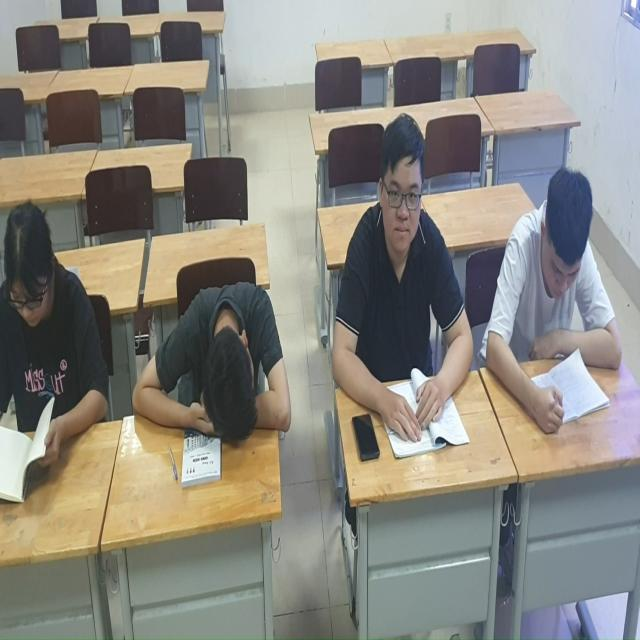read: (337, 79, 475, 445), (486, 156, 635, 438), (1, 204, 128, 502)
sleep: (139, 269, 296, 468)
